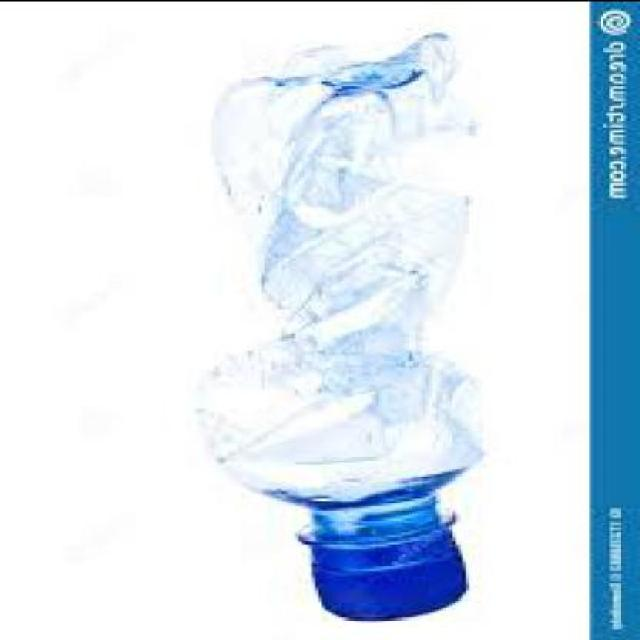PLASTIC: (212, 27, 479, 616), (312, 518, 466, 616)
